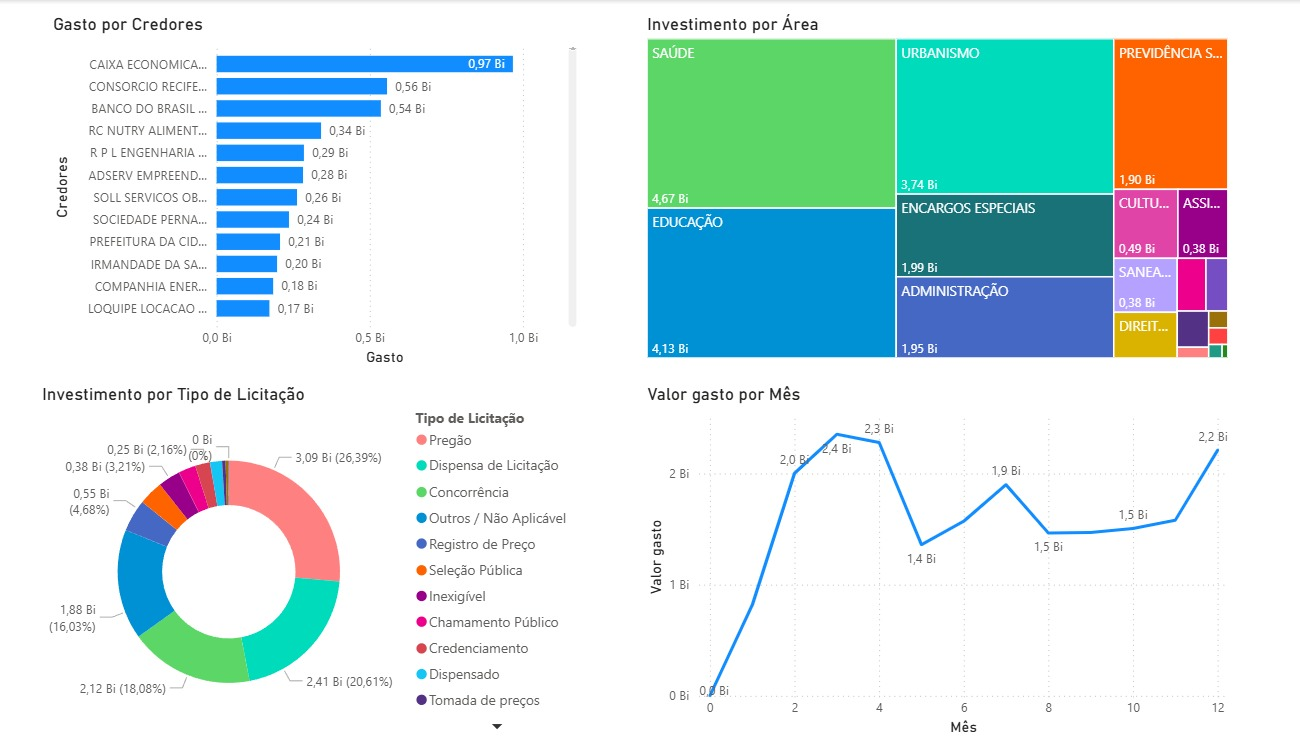

Layout of this report page (visuals, bound fields, positions):
{"tool":"powerbi","page":{"name":"Página 1","canvas":[1280,720],"ordinal":0},"visuals":[{"type":"clusteredBarChart","fields":{"Category":["recife_auditoria v_fato_credor_empenho.nome_credor"],"Y":["Sum(recife_auditoria v_fato_credor_empenho.pagamento)"]},"box":[62.2,13.6,519.4,346.3],"z":0},{"type":"treemap","fields":{"Group":["recife_auditoria v_despesas_funcional.funcao"],"Values":["Sum(recife_auditoria v_despesas_funcional.pago)"]},"box":[640,13.6,574.8,339.5],"z":1000},{"type":"donutChart","fields":{"Category":["recife_auditoria v_fato_credor_empenho.tipo_licitacao"],"Y":["Sum(recife_auditoria v_fato_credor_empenho.pagamento)"]},"box":[51.6,373.5,530.1,346.3],"z":2000},{"type":"lineChart","fields":{"Y":["Sum(recife_auditoria v_despesas_funcional.pago)"],"Category":["recife_auditoria v_despesas_funcional.mes"]},"box":[640,373.5,574.8,346.3],"z":3000}]}

Visuals, with their boxes in screenshot pixels (x1, y1, x2, y2), scaled from the page's 1280x720 canvas onto the 1300x740 screenshot:
clusteredBarChart - recife_auditoria v_fato_credor_empenho.nome_credor x Sum(recife_auditoria v_fato_credor_empenho.pagamento): 63 14 591 370
treemap - recife_auditoria v_despesas_funcional.funcao x Sum(recife_auditoria v_despesas_funcional.pago): 650 14 1234 363
donutChart - recife_auditoria v_fato_credor_empenho.tipo_licitacao x Sum(recife_auditoria v_fato_credor_empenho.pagamento): 52 384 591 739
lineChart - Sum(recife_auditoria v_despesas_funcional.pago) x recife_auditoria v_despesas_funcional.mes: 650 384 1234 739
